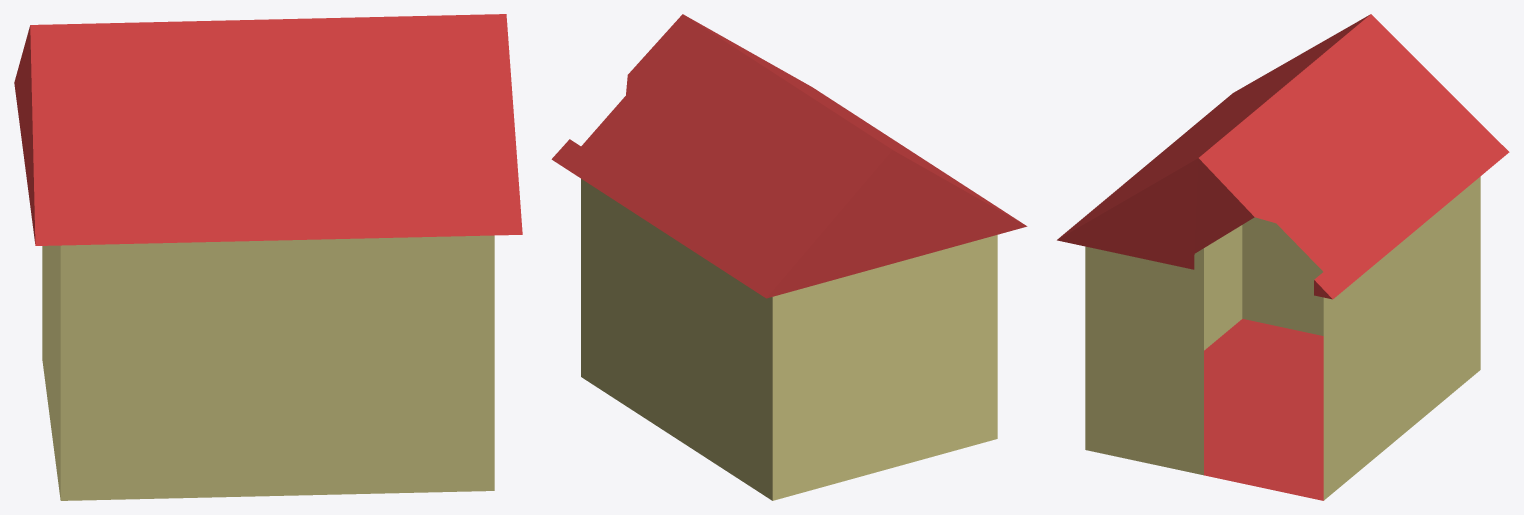
3 renders of one model, left to right at view 1: azimuth 30°, elevation 25°; view 2: azimuth 150°, elevation 25°; view 3: azimuth 270°, elevation 25°, orthographic. The views are drawn at different scales.
Bounding box in the file's own units: 17.13 × 15.89 × 12.54.
